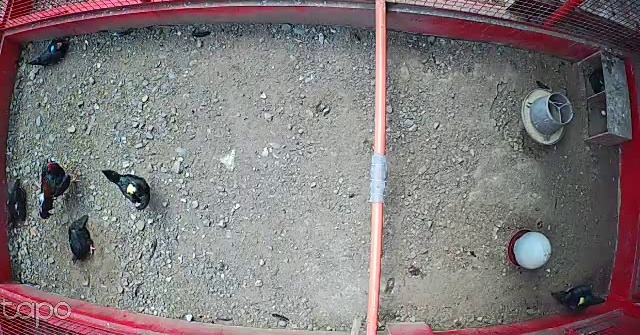Chicken: (101, 165, 153, 213), (545, 281, 608, 317), (3, 168, 30, 238), (66, 213, 97, 266), (26, 35, 74, 69)
Rooster: (37, 152, 81, 225)
Saddle_Color_Blue: (50, 45, 56, 52)
Saddle_Color_Yellow: (126, 184, 139, 195), (577, 296, 587, 307)
